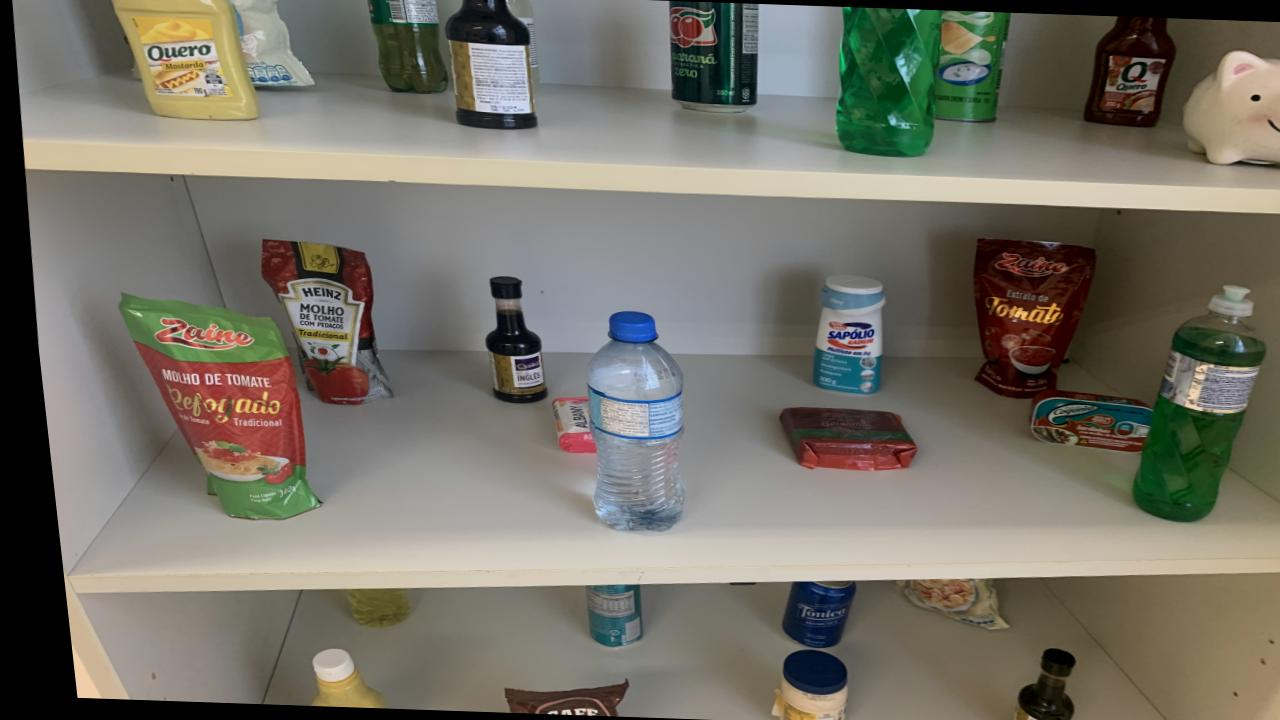Cleaner-Cleanup_Items: (802, 276, 879, 395)
Coffee-Pantry_Items: (489, 681, 614, 717)
Detergent-Cleanup_Items: (1121, 286, 1259, 522), (833, 7, 941, 157), (333, 588, 397, 626)
English_Sauce-Pantry_Items: (444, 0, 534, 130), (478, 277, 538, 403), (998, 649, 1060, 720)
Flakes-Snacks: (230, 0, 312, 87), (886, 578, 993, 631)
Guarana-Drinks: (367, 0, 447, 94)
Guarana_Can-Drinks: (668, 1, 759, 113)
Guava-Snacks: (769, 407, 906, 471)
Ketchup-Pantry_Items: (1081, 16, 1176, 128)
Mayonnaise-Pantry_Items: (755, 649, 832, 720)
Mustard-Pantry_Items: (112, 0, 256, 120), (297, 649, 370, 709)
Pig_Safe-Miscellaneous: (1179, 50, 1280, 165)
Pringles-Snacks: (932, 10, 1011, 122)
Soap-Cleanup_Items: (544, 397, 586, 452)
Soda-Drinks: (505, 0, 539, 88)
Tea-Drinks: (571, 584, 628, 647)
Tomato_Sauce-Pantry_Items: (111, 294, 309, 520), (255, 241, 383, 405), (965, 238, 1089, 398)
Tonic-Drinks: (768, 581, 841, 649)
Tuna_Can-Pantry_Items: (1020, 390, 1142, 453)
Water_Bottle-Drinks: (577, 311, 675, 531)
